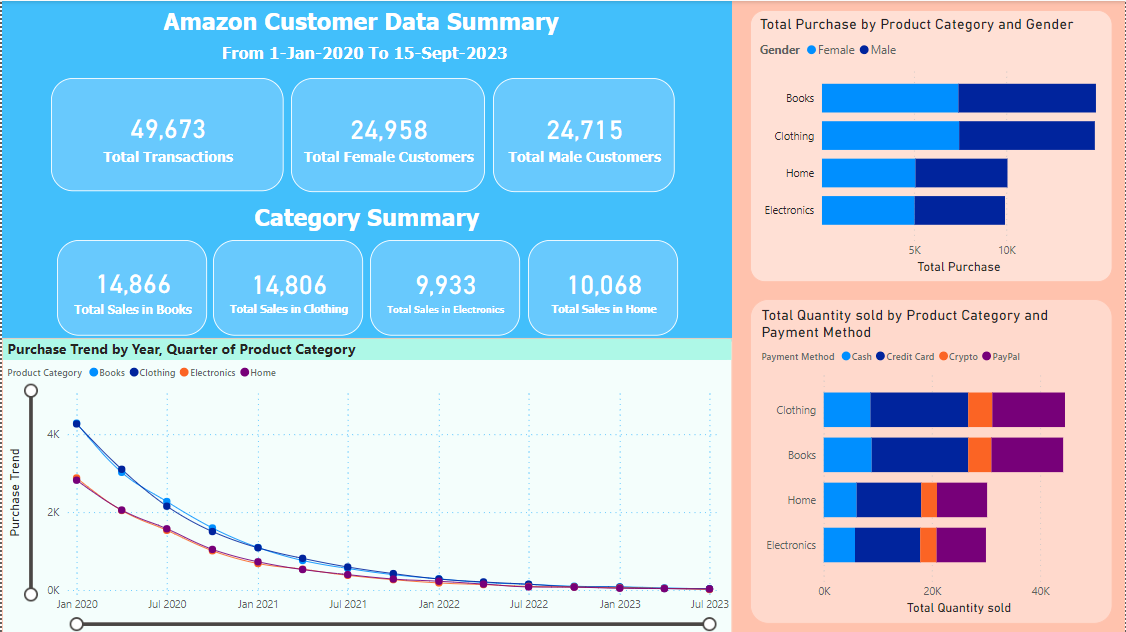

The dashboard page shown, as its layout file describes it:
{"tool":"powerbi","page":{"name":"Data Summary","canvas":[1280,720],"ordinal":0},"visuals":[{"type":"shape","box":[0,0,832.8,387.9],"z":0},{"type":"card","fields":{"Values":["CountNonNull(ecommerce_customer_data_1.Customer ID)"]},"box":[55.8,88.3,264.8,128.9],"z":1000},{"type":"shape","box":[832,0,448,720],"z":2000},{"type":"lineChart","title":"Purchase Trend by Year, Quarter of Product Category","fields":{"Category":["ecommerce_customer_data_1.Purchase Date.Variation.Date Hierarchy.Year","ecommerce_customer_data_1.Purchase Date.Variation.Date Hierarchy.Quarter","ecommerce_customer_data_1.Purchase Date.Variation.Date Hierarchy.Month","ecommerce_customer_data_1.Purchase Date.Variation.Date Hierarchy.Day"],"Y":["CountNonNull(ecommerce_customer_data_1.total purchase)"],"Series":["ecommerce_customer_data_1.Product Category"]},"box":[0,384,832,336],"z":3000},{"type":"barChart","fields":{"Category":["ecommerce_customer_data_1.Product Category"],"Y":["Sum(ecommerce_customer_data_1.Quantity)"],"Series":["ecommerce_customer_data_1.Payment Method"]},"box":[852.5,339.7,413.1,369.8],"z":4000},{"type":"barChart","fields":{"Series":["ecommerce_customer_data_1.Gender"],"Y":["CountNonNull(ecommerce_customer_data_1.total purchase)"],"Category":["ecommerce_customer_data_1.Product Category"]},"box":[852.5,10.5,413.1,309.5],"z":5000},{"type":"card","fields":{"Values":["CountNonNull(ecommerce_customer_data_1.Gender)"]},"box":[328.7,88.3,220.7,130.1],"z":6000},{"type":"card","fields":{"Values":["CountNonNull(ecommerce_customer_data_1.Gender)"]},"box":[559.9,88.3,206.8,130.1],"z":7000},{"type":"textbox","box":[178.9,1.2,476.2,81.3],"z":8000},{"type":"card","fields":{"Values":["CountNonNull(ecommerce_customer_data_1.Product Category)"]},"box":[62.6,271.7,170.7,109.2],"z":9000},{"type":"card","fields":{"Values":["CountNonNull(ecommerce_customer_data_1.Product Category)"]},"box":[240.3,271.7,170.7,109.2],"z":10000},{"type":"card","fields":{"Values":["CountNonNull(ecommerce_customer_data_1.Product Category)"]},"box":[419.2,271.7,170.7,109.2],"z":11000},{"type":"card","fields":{"Values":["CountNonNull(ecommerce_customer_data_1.Product Category)"]},"box":[599.3,271.7,170.7,109.2],"z":12000},{"type":"textbox","box":[176,224,480,80],"z":13000}]}

Visuals, with their boxes in screenshot pixels (x1, y1, x2, y2), scaled from the page's 1280x720 canvas onto the 1126x632 screenshot:
shape: bbox=[0, 0, 733, 340]
card - CountNonNull(ecommerce_customer_data_1.Customer ID): bbox=[49, 78, 282, 191]
shape: bbox=[732, 0, 1125, 631]
"Purchase Trend by Year, Quarter of Product Category" lineChart: bbox=[0, 337, 732, 631]
barChart - ecommerce_customer_data_1.Product Category x Sum(ecommerce_customer_data_1.Quantity): bbox=[750, 298, 1113, 623]
barChart - ecommerce_customer_data_1.Gender x CountNonNull(ecommerce_customer_data_1.total purchase): bbox=[750, 9, 1113, 281]
card - CountNonNull(ecommerce_customer_data_1.Gender): bbox=[289, 78, 483, 192]
card - CountNonNull(ecommerce_customer_data_1.Gender): bbox=[493, 78, 674, 192]
textbox: bbox=[157, 1, 576, 72]
card - CountNonNull(ecommerce_customer_data_1.Product Category): bbox=[55, 238, 205, 334]
card - CountNonNull(ecommerce_customer_data_1.Product Category): bbox=[211, 238, 362, 334]
card - CountNonNull(ecommerce_customer_data_1.Product Category): bbox=[369, 238, 519, 334]
card - CountNonNull(ecommerce_customer_data_1.Product Category): bbox=[527, 238, 677, 334]
textbox: bbox=[155, 197, 577, 267]
